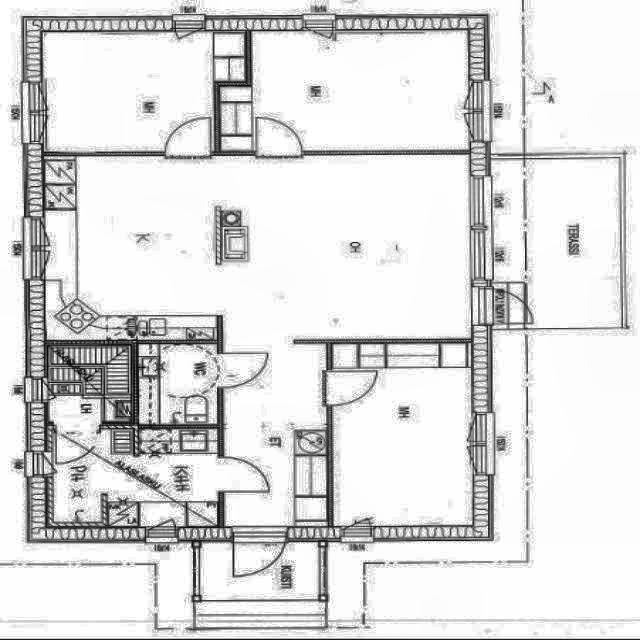room: (220, 31, 468, 150), (332, 344, 473, 526), (42, 32, 246, 151), (53, 429, 217, 526), (138, 344, 217, 424), (48, 346, 131, 422)
